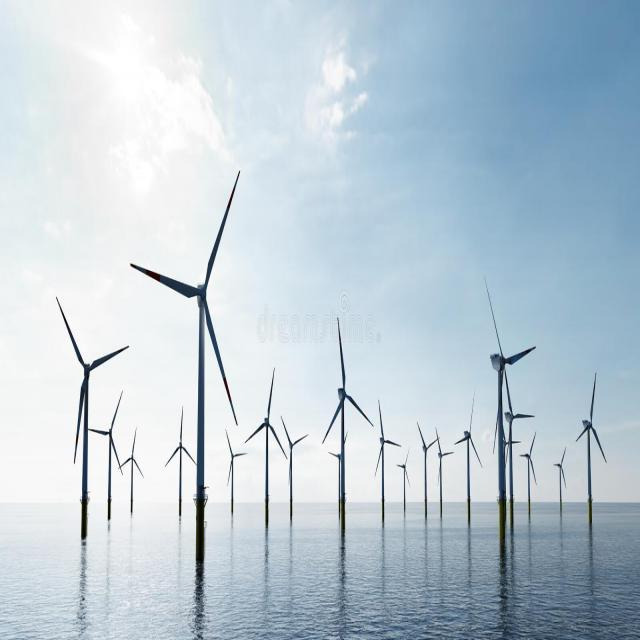solid-blade: (204, 300, 239, 426), (205, 172, 238, 285), (130, 264, 201, 297), (56, 297, 85, 365), (74, 374, 88, 460), (91, 347, 129, 371), (345, 394, 372, 425), (322, 404, 341, 442), (505, 347, 535, 364)
